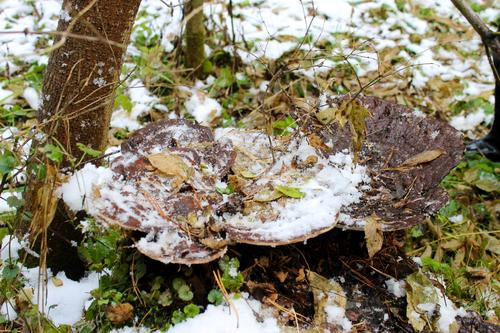Ganoderma - Fruit Body: (74, 96, 382, 271)
